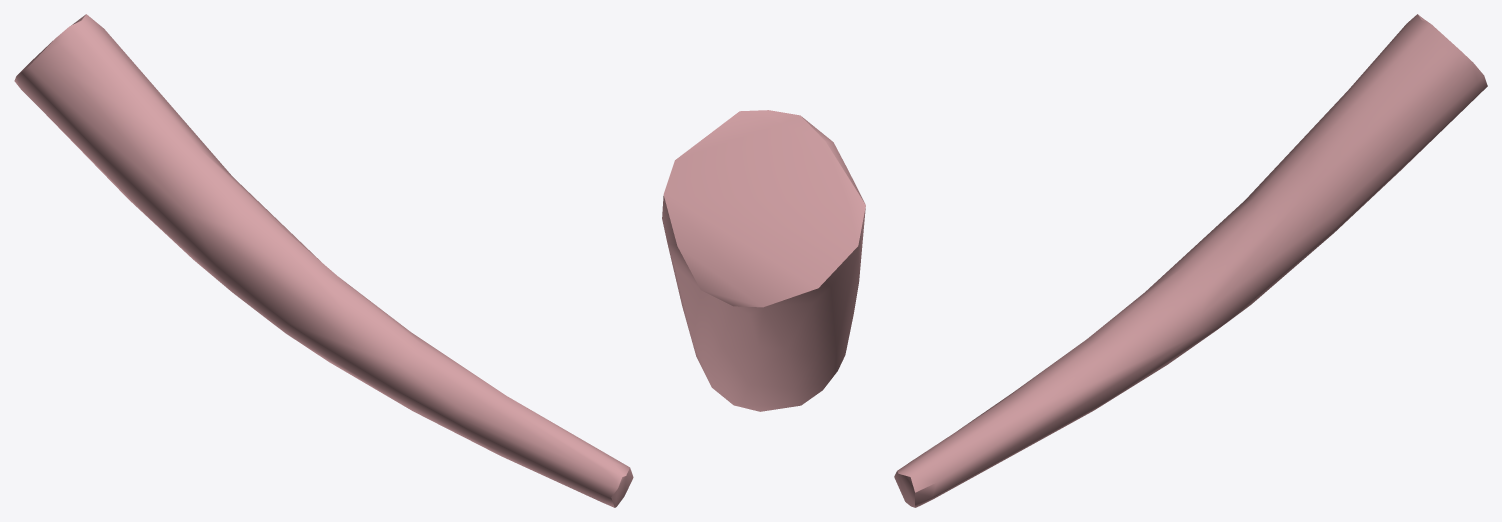
The model's file is fma68227_fj2475.glb.
3 views of the same model, side by side, from view 1: azimuth 30°, elevation 25°; view 2: azimuth 150°, elevation 25°; view 3: azimuth 270°, elevation 25° (orthographic). The views are drawn at different scales.
Visible parts, largest first — view 1: FMA68227_FJ2475; view 2: FMA68227_FJ2475; view 3: FMA68227_FJ2475.
Part boxes in pixels (x1,y1,x2,y2): FMA68227_FJ2475: (14,14,633,507); FMA68227_FJ2475: (662,110,865,411); FMA68227_FJ2475: (894,14,1487,507).
Size of the model in its own units: 0.023 by 0.0228 by 0.0345.
